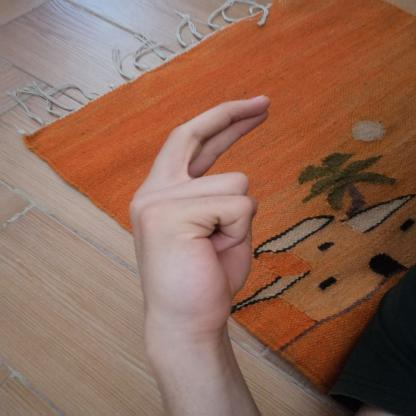ZAY: (118, 84, 290, 343)
